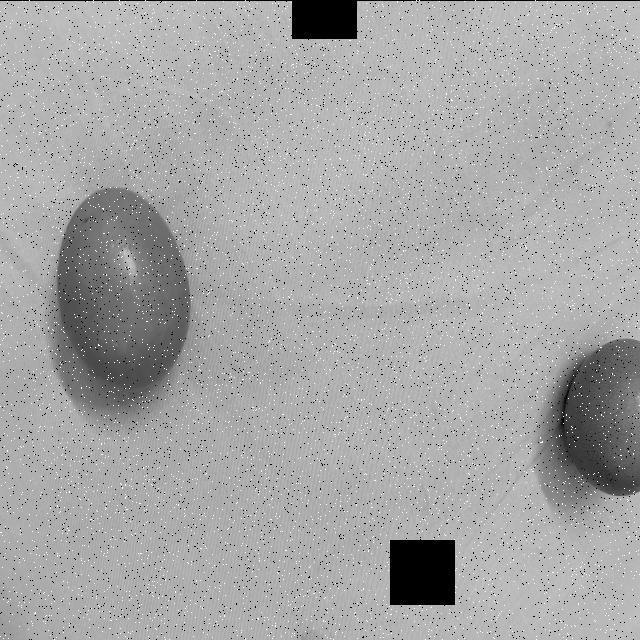egg: (52, 176, 197, 392), (552, 336, 640, 499)
